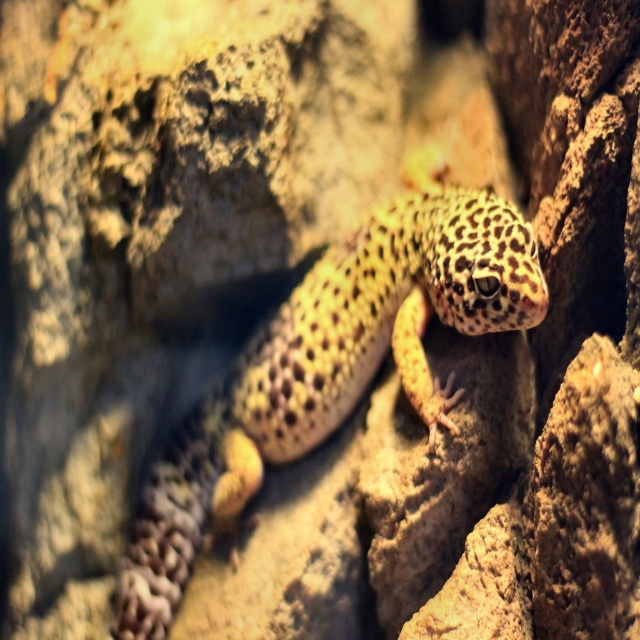Lizard: (105, 150, 571, 602)
